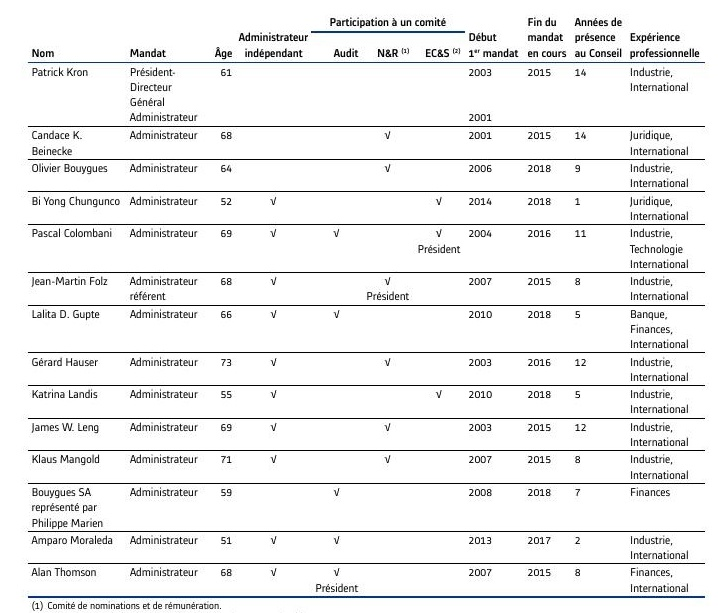table: (0, 0, 718, 613)
